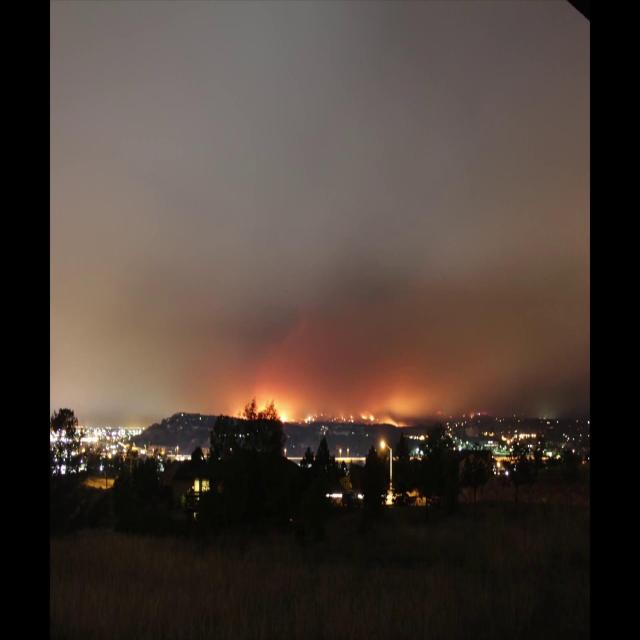Fire: (255, 391, 290, 418), (381, 416, 409, 427), (234, 407, 247, 421), (279, 407, 289, 422), (304, 412, 316, 424), (340, 414, 355, 422), (362, 411, 374, 420)
